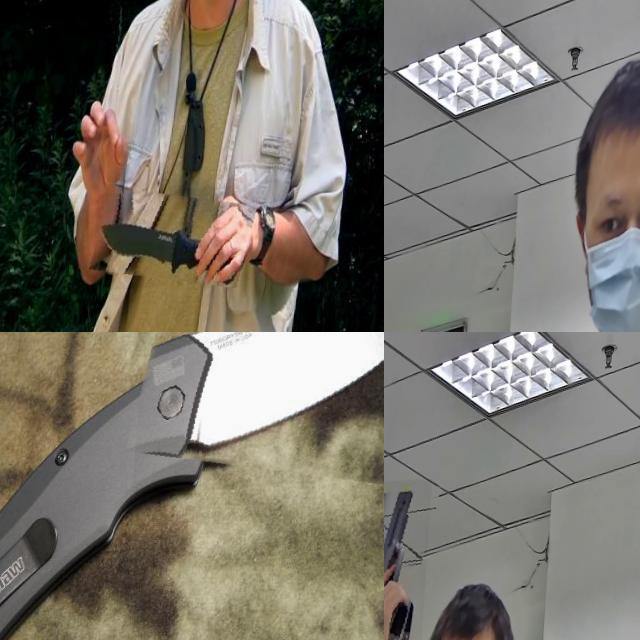-: (136, 332, 384, 499), (100, 189, 262, 294)
gun-knife-thesis - v11 Yolov5 augmented: (384, 480, 435, 640)
